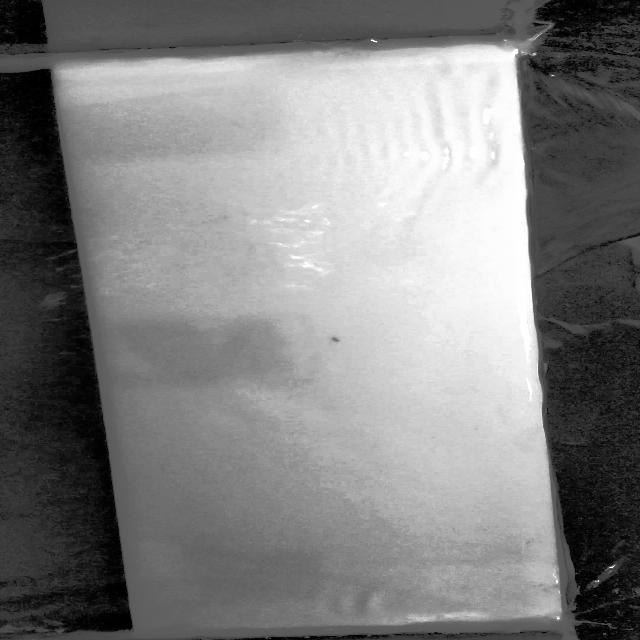shrimp: (311, 327, 351, 352)
